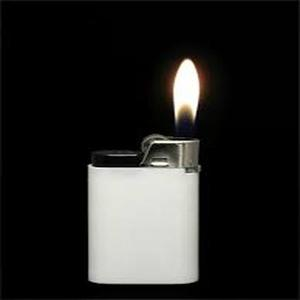fire: (171, 52, 202, 139)
